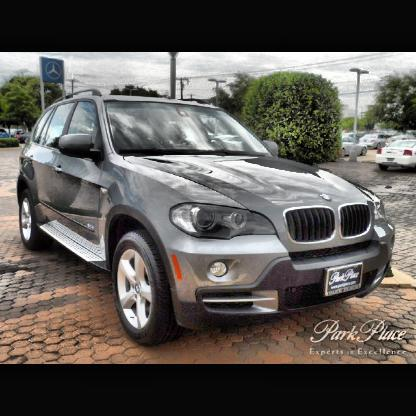BMW X5 SUV 2007: (16, 86, 407, 353)
